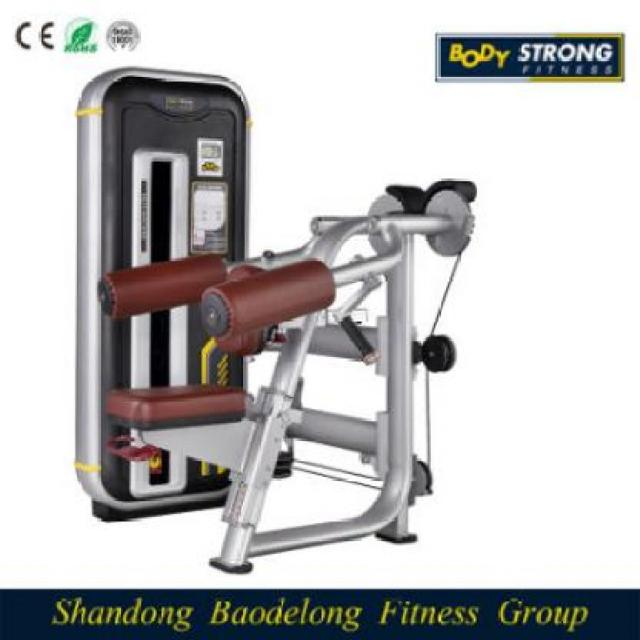lateral raises machine: (74, 81, 477, 574)
